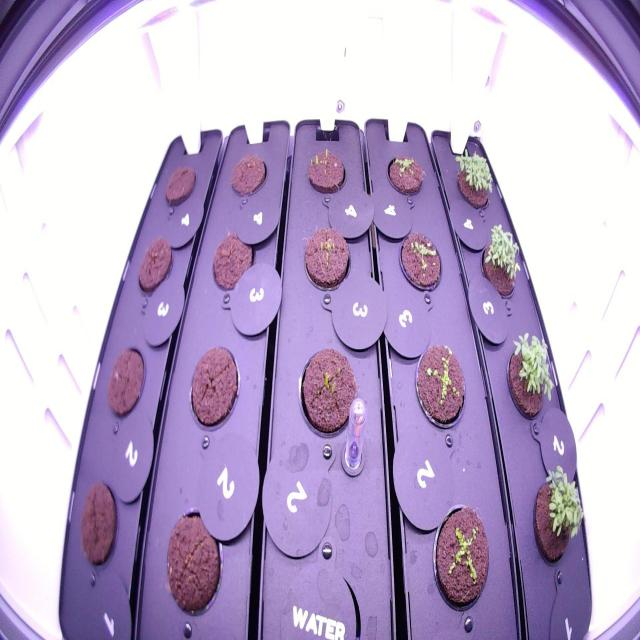germination: (426, 493, 499, 624), (293, 338, 365, 446), (523, 458, 588, 575), (408, 334, 474, 436), (500, 323, 559, 425), (297, 218, 357, 300), (476, 218, 527, 308), (394, 220, 446, 302), (452, 142, 499, 214), (300, 139, 350, 201), (382, 145, 429, 203)
pod: (159, 498, 230, 624), (185, 338, 246, 438), (74, 472, 122, 580), (101, 340, 151, 431), (204, 223, 260, 298), (129, 226, 176, 299), (228, 148, 270, 202), (161, 156, 200, 212)
